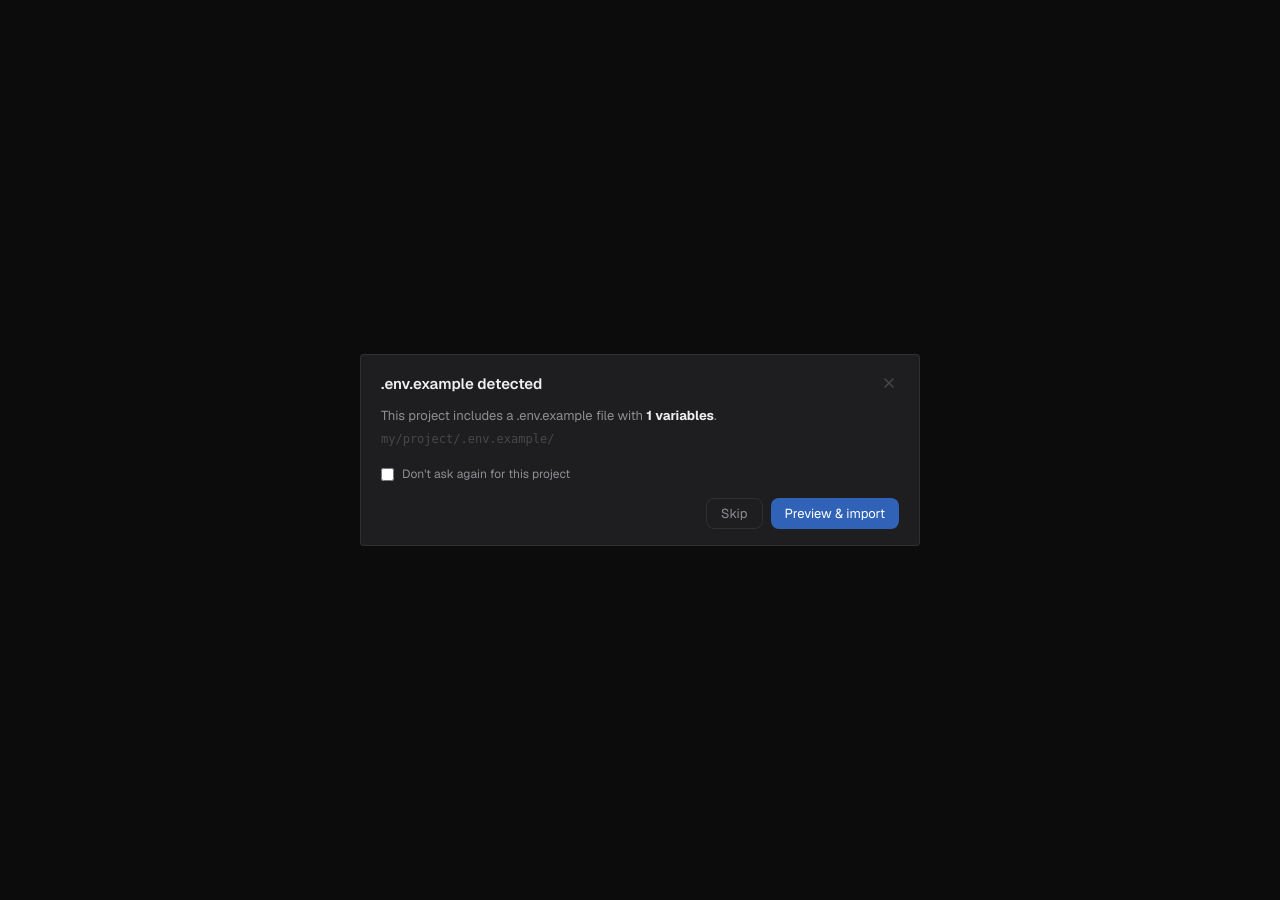
EnvExamplePromptDialog – prompt step › 3.7: environment selector present in preview step
Click the button "Preview & import" at (835, 514), box [770,498,899,529]
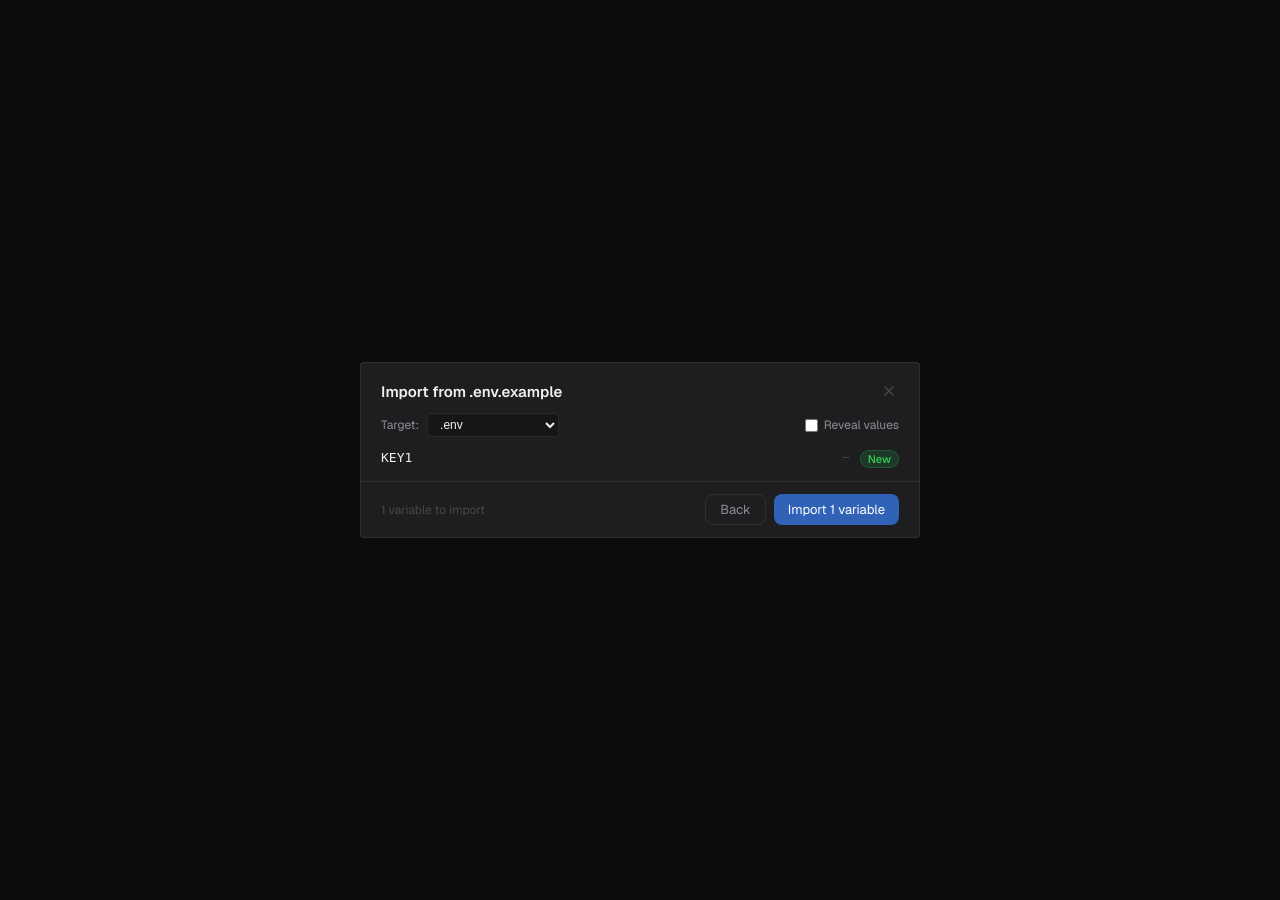
Expected: the dropdown is shown, [427,413,559,437]
